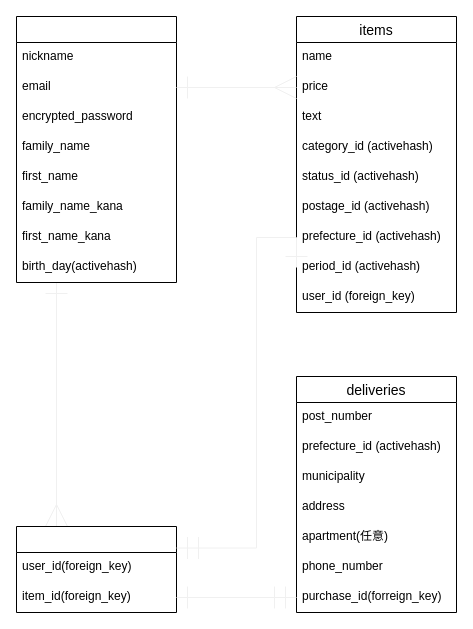
Some shapes in this 473 by 629 pixel diagram are drawn without their labels. Each missing label, with the box of its shape:
purchases: (16, 526, 176, 612)
users: (16, 16, 176, 282)
